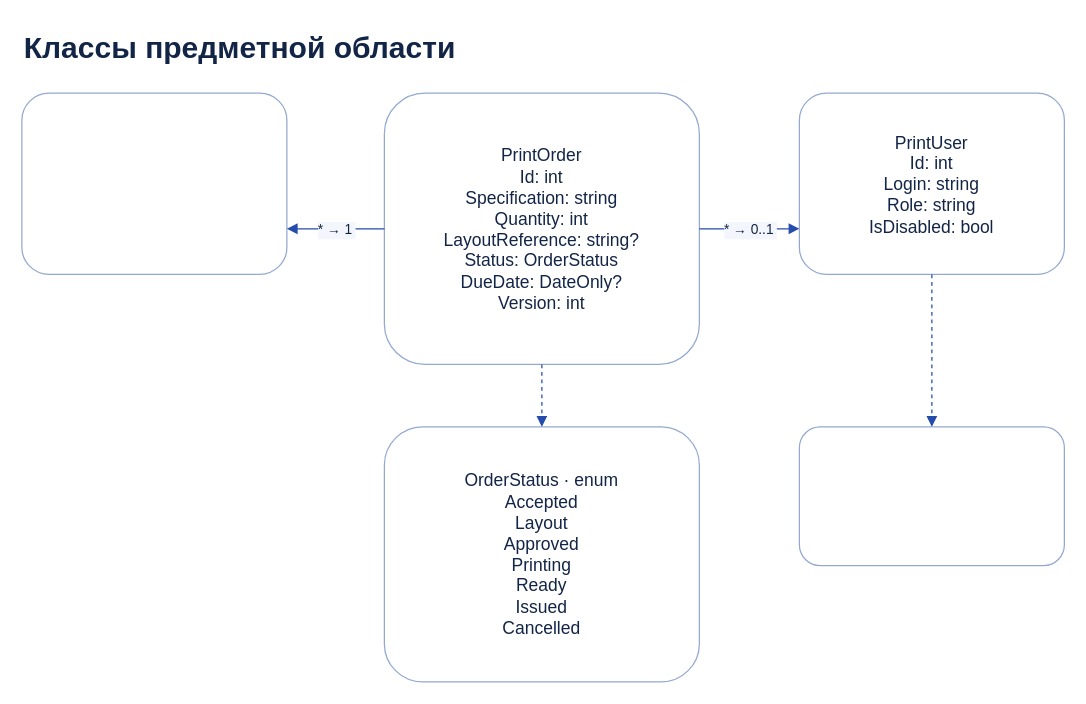
The diagram is 1086 pixels wide and 704 high, and some of its shapes have lost their labels. The centre of each missing label's shape, as x and y in pixels:
"Customer Id: int Name: string Phone: string Email: string" belongs at (154,183).
"UserRole · enum Admin Manager Printer" belongs at (931,496).
